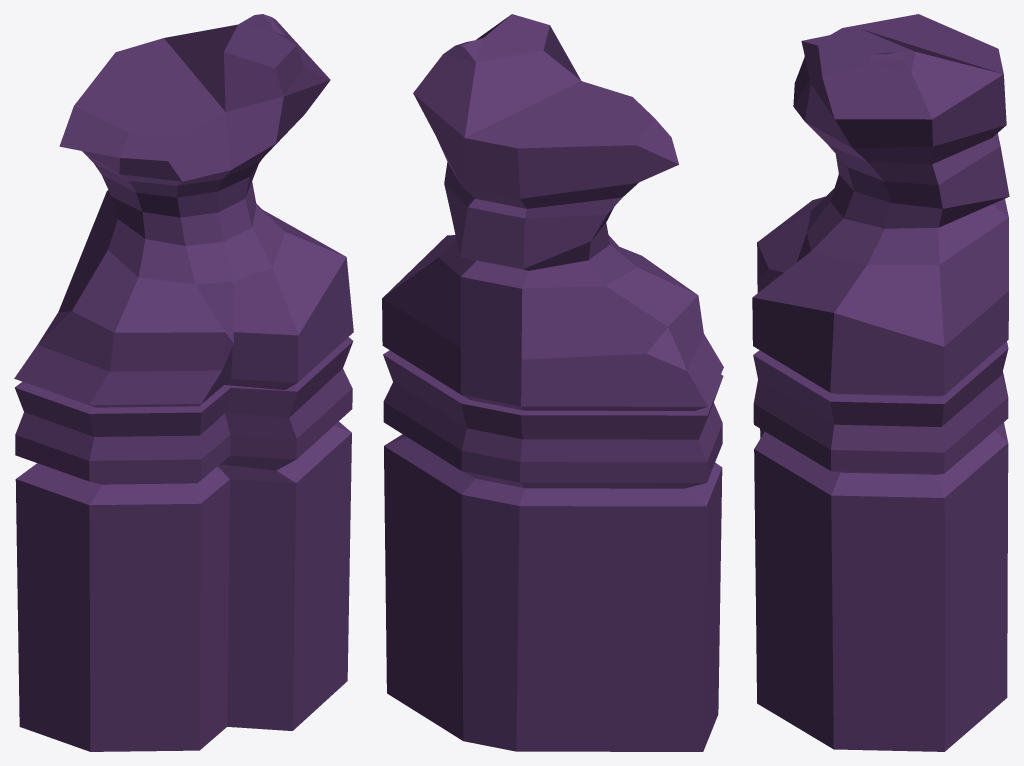
Rendered from Rock_6.fbx.
3 views of the same model, side by side, from view 1: azimuth 30°, elevation 25°; view 2: azimuth 150°, elevation 25°; view 3: azimuth 270°, elevation 25° (orthographic). The views are drawn at different scales.
Parts seen in each view (by area): view 1: rock_model.025; view 2: rock_model.025; view 3: rock_model.025.
Part boxes in pixels (x1,y1,x2,y2): rock_model.025: (14,14,353,751); rock_model.025: (382,14,723,751); rock_model.025: (752,14,1009,751).
Size of the model in its own units: 164 by 333 by 115.
